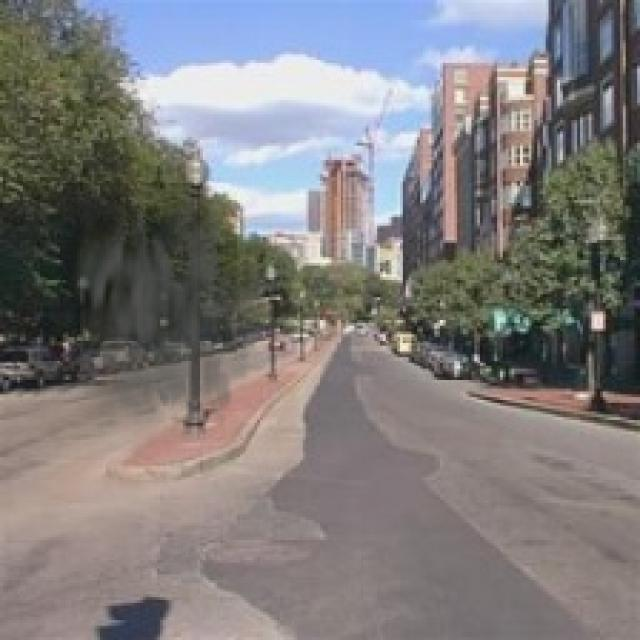smoke: (57, 183, 266, 454)
